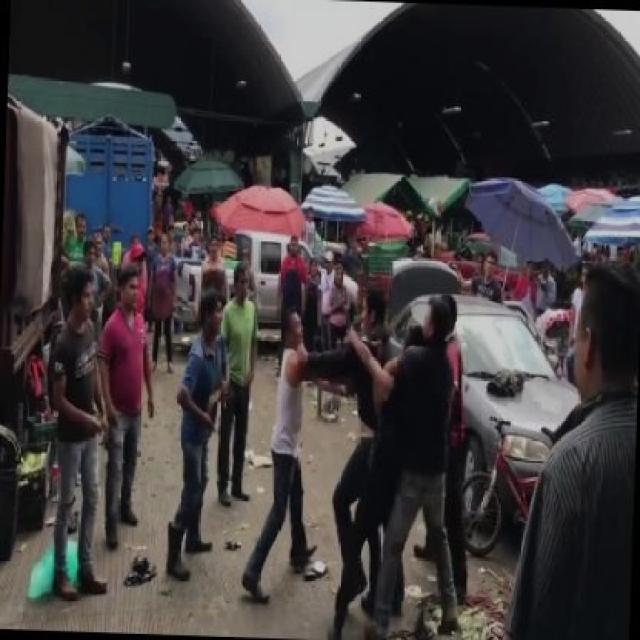fight: (237, 286, 405, 609)
non-fight: (496, 252, 638, 638), (364, 292, 464, 638), (35, 263, 123, 608), (162, 287, 230, 582), (92, 262, 144, 550), (214, 261, 262, 509), (318, 264, 354, 425), (144, 232, 182, 375), (273, 230, 308, 381), (192, 238, 228, 332)
